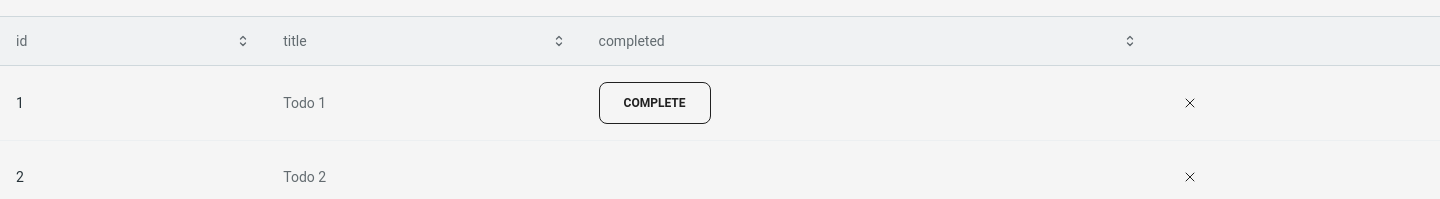
it: TodosList › deletes a todo when delete button is clicked
The image size is (1440, 199).
Step 1. Click the button with test id "delete" → (1190, 103), box [1170,83,1210,123]
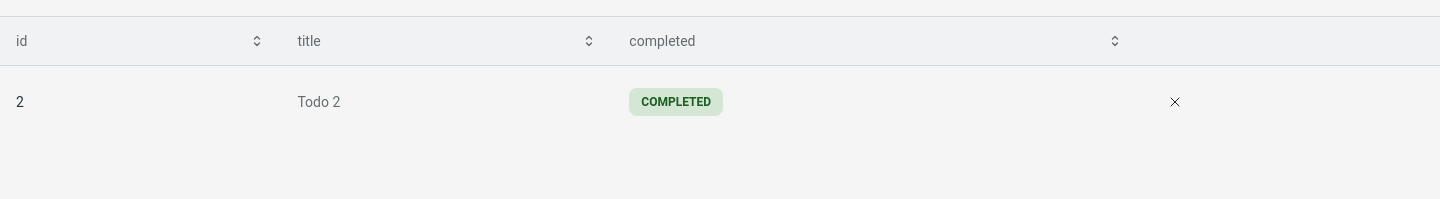
Expected: the number of rows with test id "todo-item" is 1, [0,66,1439,138]
